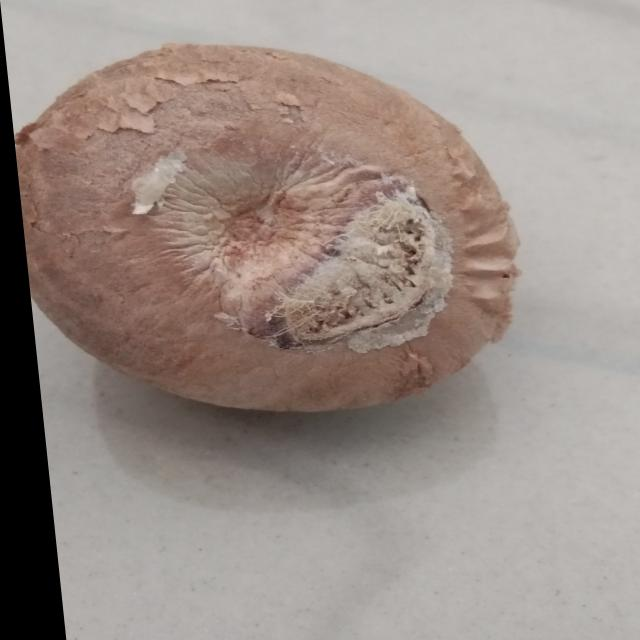good: (2, 26, 552, 440)
